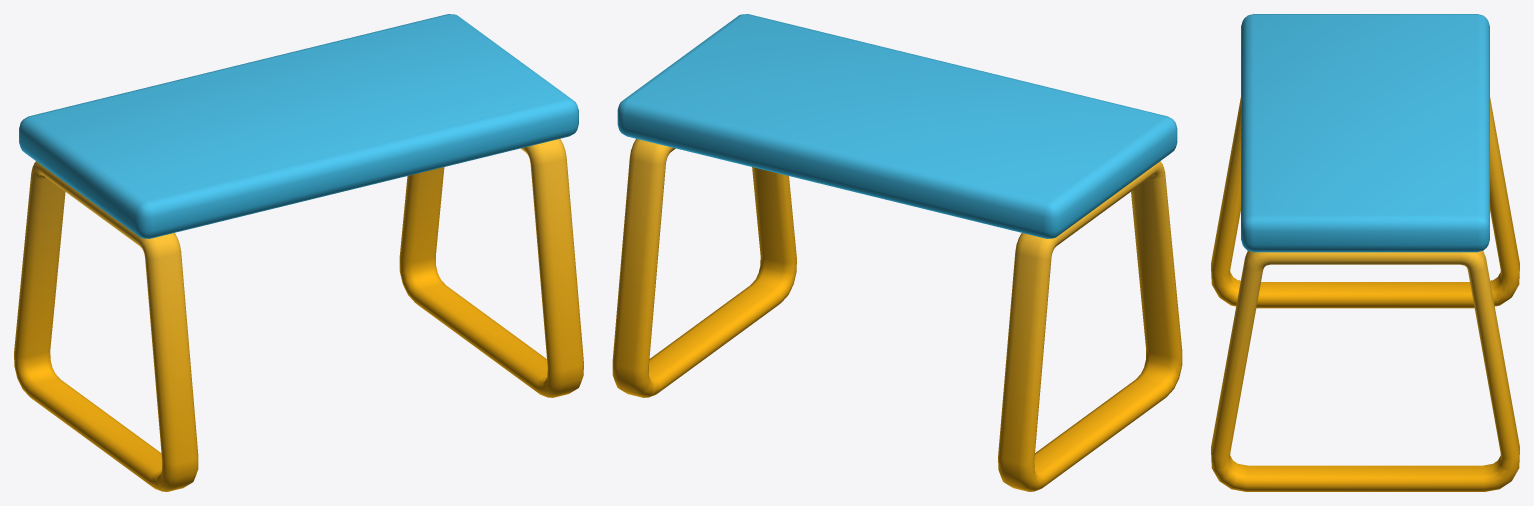
File: Work_Table_03.glb
3 views of the same model, side by side, from view 1: azimuth 30°, elevation 25°; view 2: azimuth 150°, elevation 25°; view 3: azimuth 270°, elevation 25° (orthographic). The views are drawn at different scales.
Parts seen in each view (by area): view 1: Work_Table_03; view 2: Work_Table_03; view 3: Work_Table_03.
Boxes of the visible parts, x1,y1,x2,y2 form: Work_Table_03: (14, 14, 583, 491); Work_Table_03: (612, 14, 1182, 491); Work_Table_03: (1211, 14, 1519, 491).
Bounding box in the file's own units: 1.2 × 0.746 × 0.7443.
Materials: 1 (1 with a texture image).
